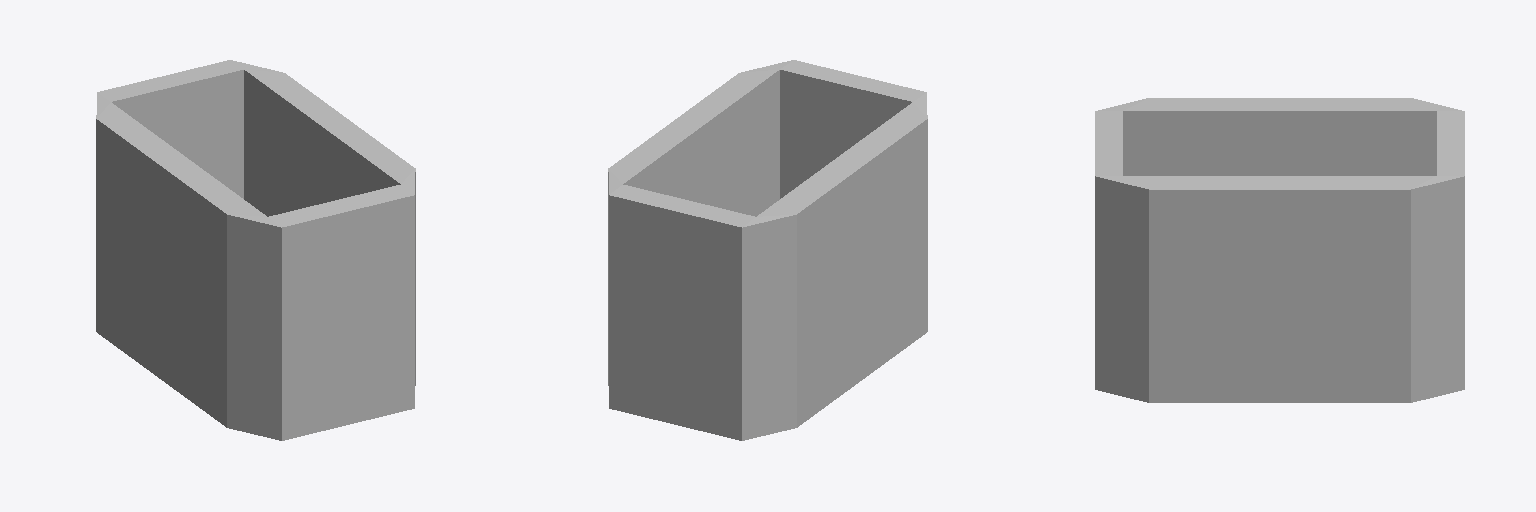
File: small_square_vase.obj
The picture shows the model from 3 angles: view 1: azimuth 30°, elevation 25°; view 2: azimuth 150°, elevation 25°; view 3: azimuth 270°, elevation 25°; orthographic projection.
Parts seen in each view (by area): view 1: Cube; view 2: Cube; view 3: Cube.
Part boxes in pixels (x1,y1,x2,y2): Cube: (96, 60, 415, 440); Cube: (608, 60, 927, 440); Cube: (1095, 98, 1464, 402).
Size of the model in its own units: 0.3 by 0.3431 by 0.51.